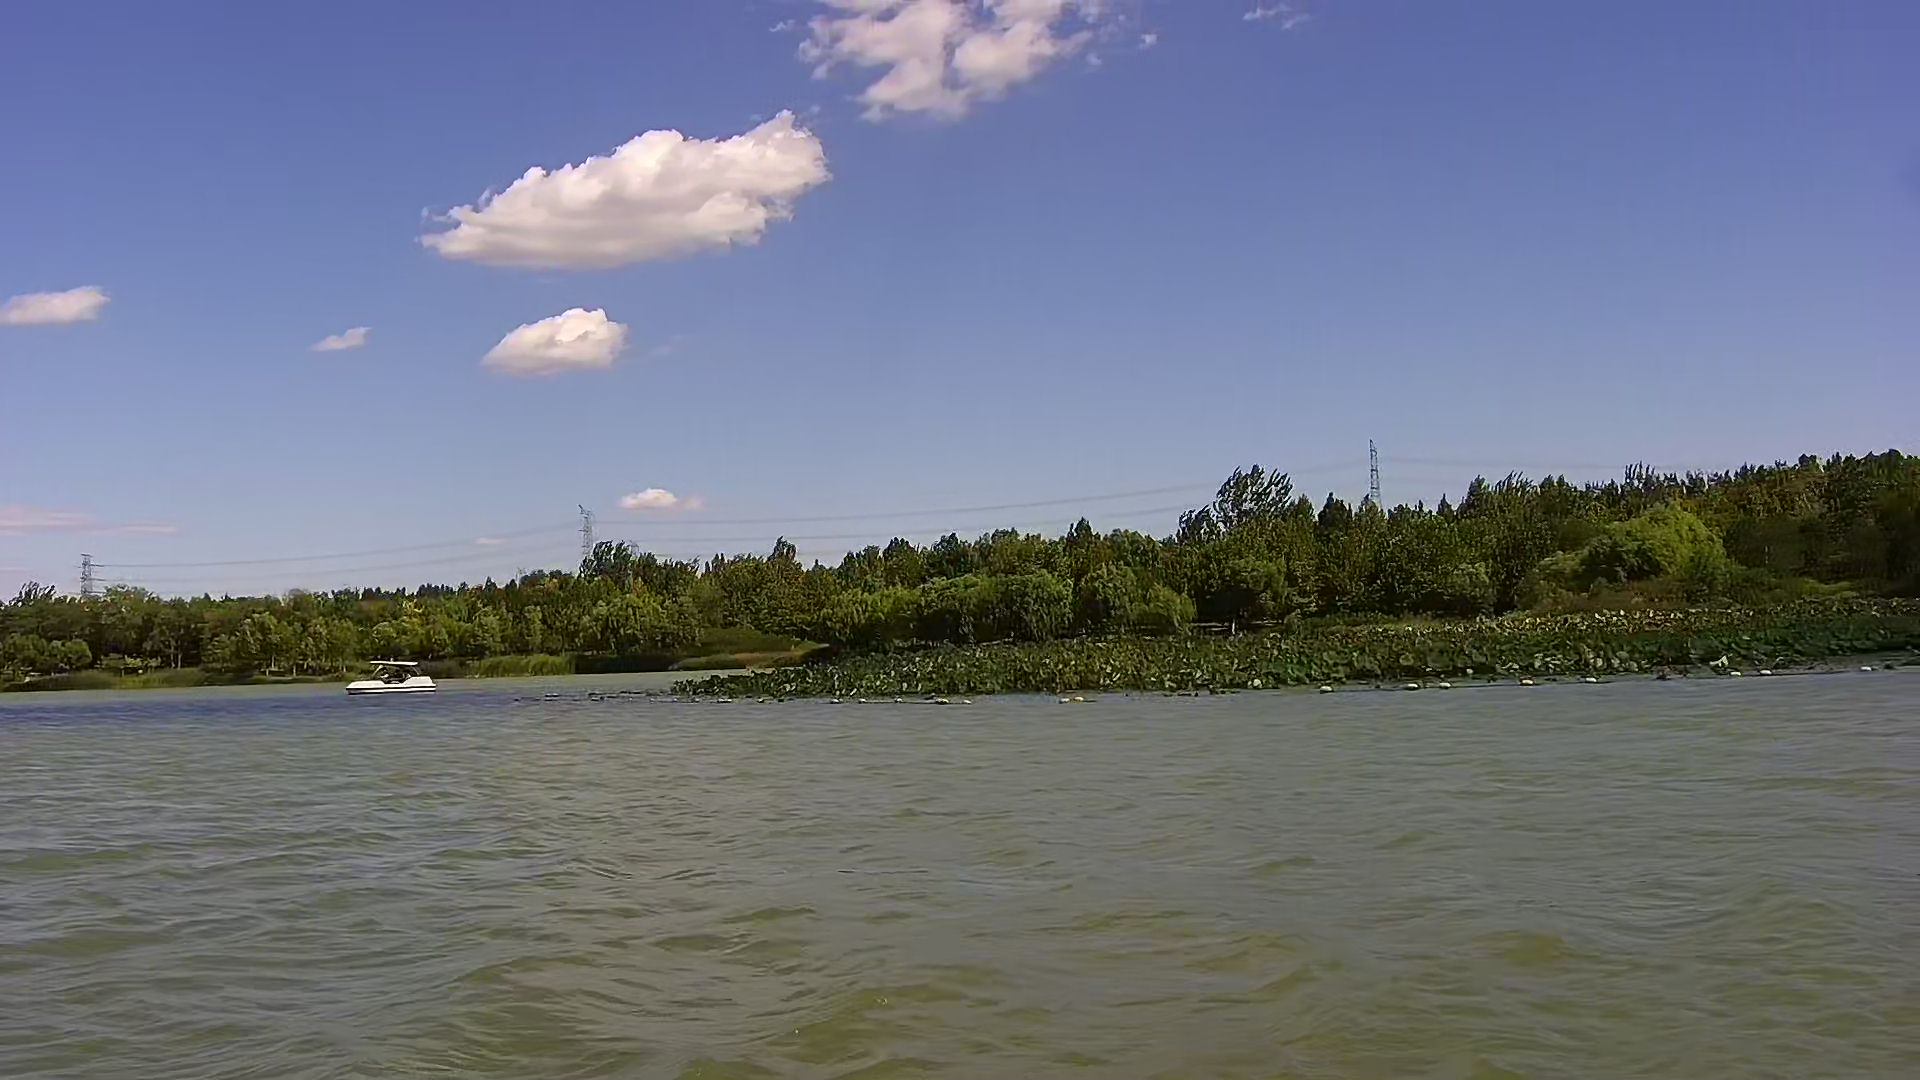boat: (345, 658, 444, 699)
